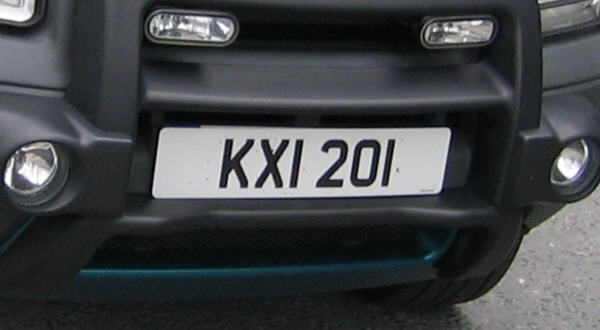license_plate: (149, 124, 451, 202)
